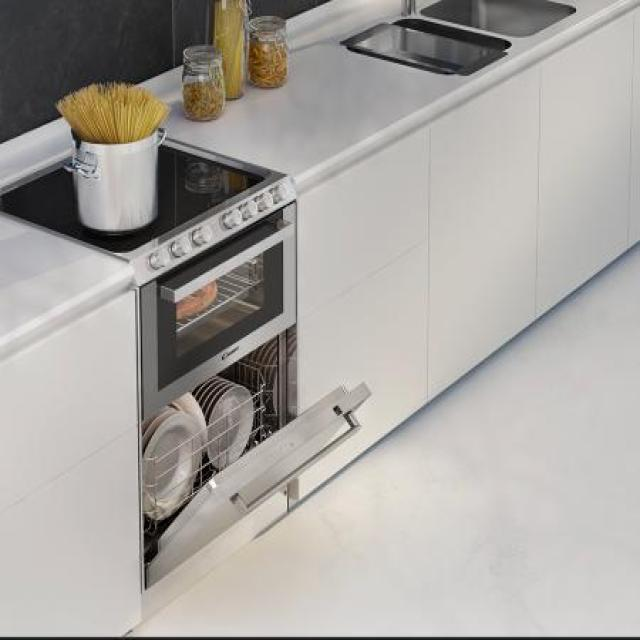dishwasher: (135, 196, 371, 593)
